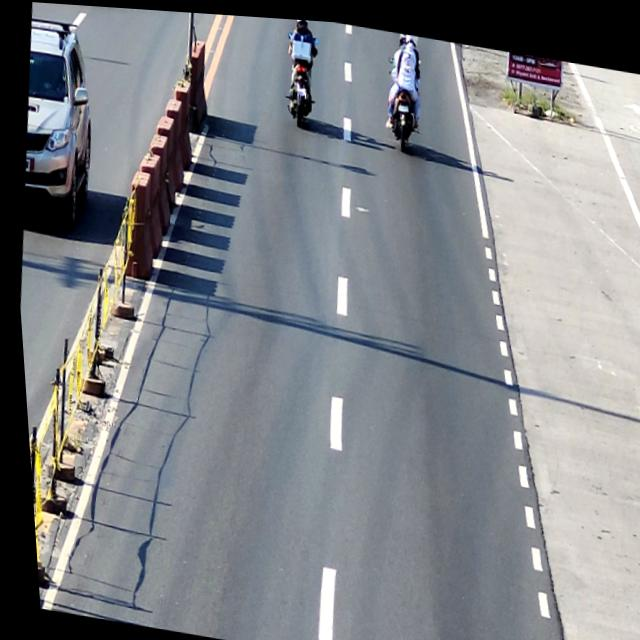Car: (10, 15, 106, 226)
License-Plate: (397, 99, 408, 108)
Motorcycle: (377, 47, 426, 150), (278, 26, 323, 129)
